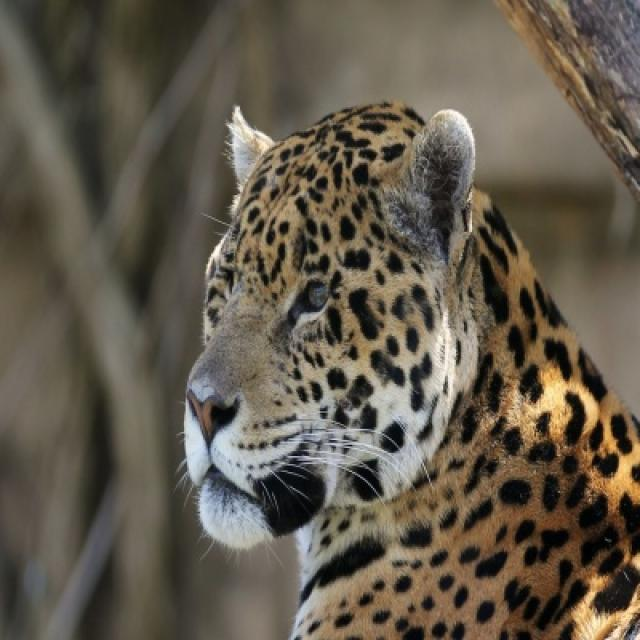Jaguar: (181, 101, 638, 638)
